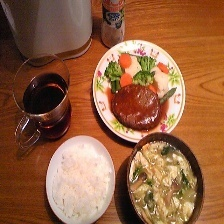rice: (52, 144, 113, 223)
